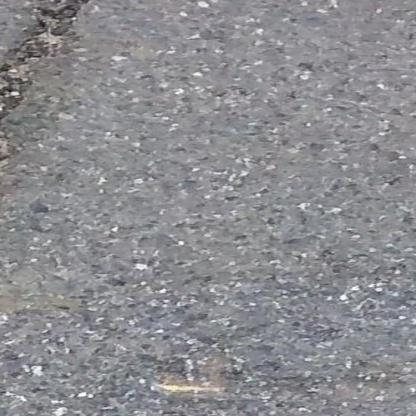Cracks: (0, 0, 104, 221)
